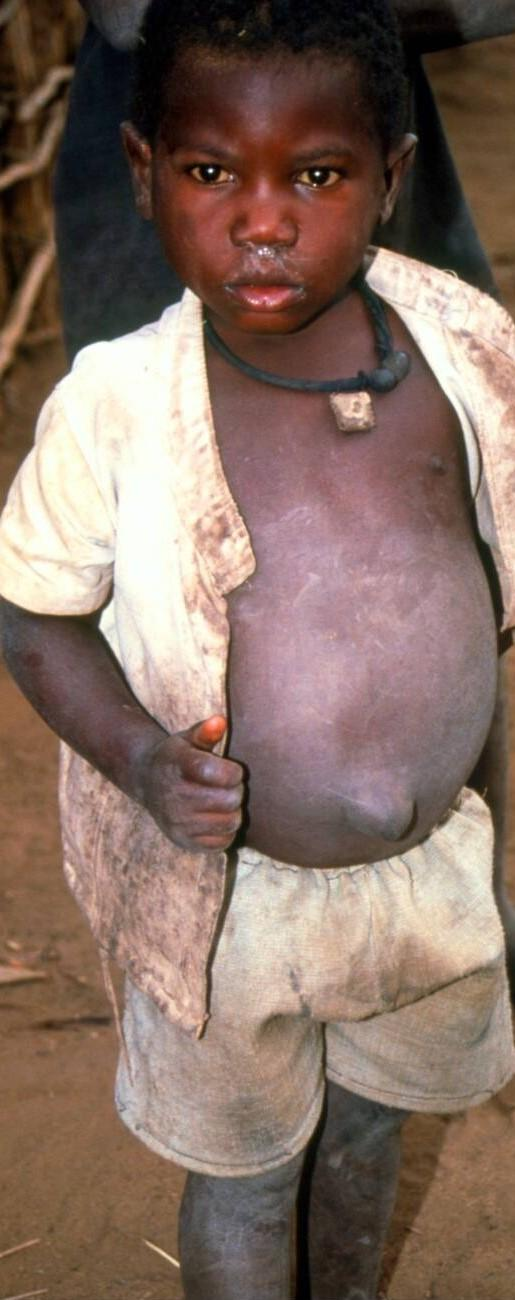Stunting: (100, 57, 477, 430)
